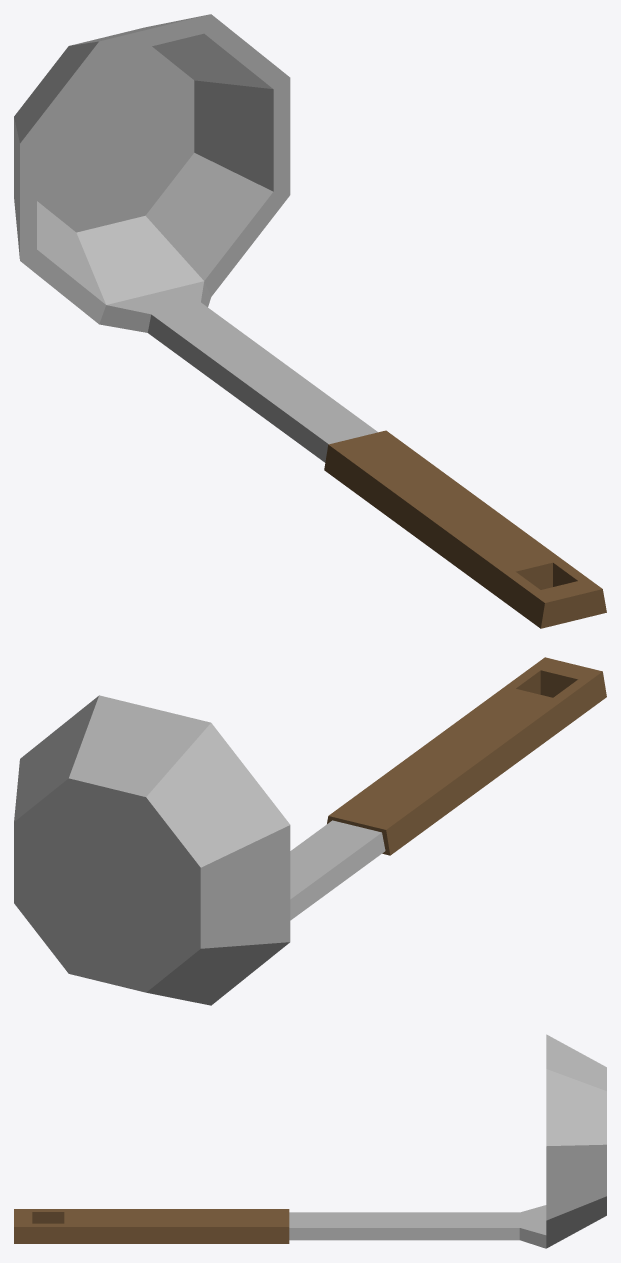
File: Spoon_06.fbx
The picture shows the model from 3 angles, top to bottom: view 1: azimuth 30°, elevation 25°; view 2: azimuth 150°, elevation 25°; view 3: azimuth 270°, elevation 25°; orthographic projection. The views are drawn at different scales.
Parts seen in each view (by area): view 1: Spoon_06; view 2: Spoon_06; view 3: Spoon_06.
Part boxes in pixels (box(x1,y1,x2,y2)): Spoon_06: box(14, 14, 606, 628); Spoon_06: box(14, 657, 606, 1005); Spoon_06: box(14, 1034, 606, 1248).
Bounding box in the file's own units: 11.22 × 11.36 × 33.52.
